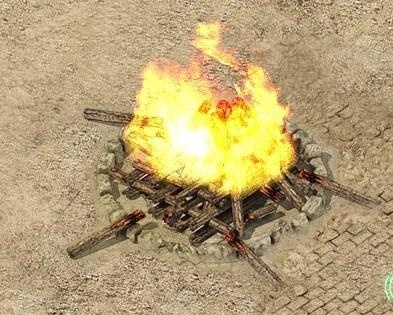fire: (124, 16, 298, 198)
